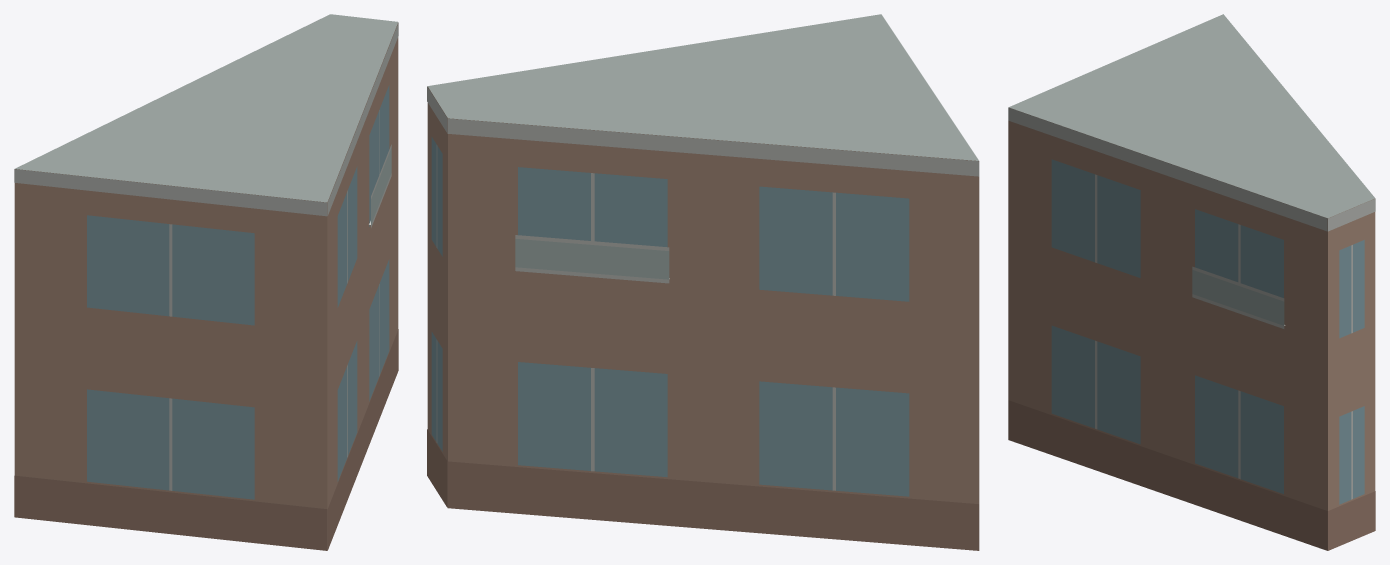
File: survey-upis-32726210.glb
3 views of the same model, side by side, from view 1: azimuth 30°, elevation 25°; view 2: azimuth 150°, elevation 25°; view 3: azimuth 270°, elevation 25° (orthographic). The views are drawn at different scales.
Parts seen in each view (by area): view 1: survey-upis-32726210.tmp; view 2: survey-upis-32726210.tmp; view 3: survey-upis-32726210.tmp.
Part boxes in pixels (bbox=[...]): survey-upis-32726210.tmp: bbox=[14, 14, 398, 550]; survey-upis-32726210.tmp: bbox=[427, 14, 979, 550]; survey-upis-32726210.tmp: bbox=[1008, 14, 1375, 550].
Size of the model in its own units: 8.05 by 6.1 by 6.11.
